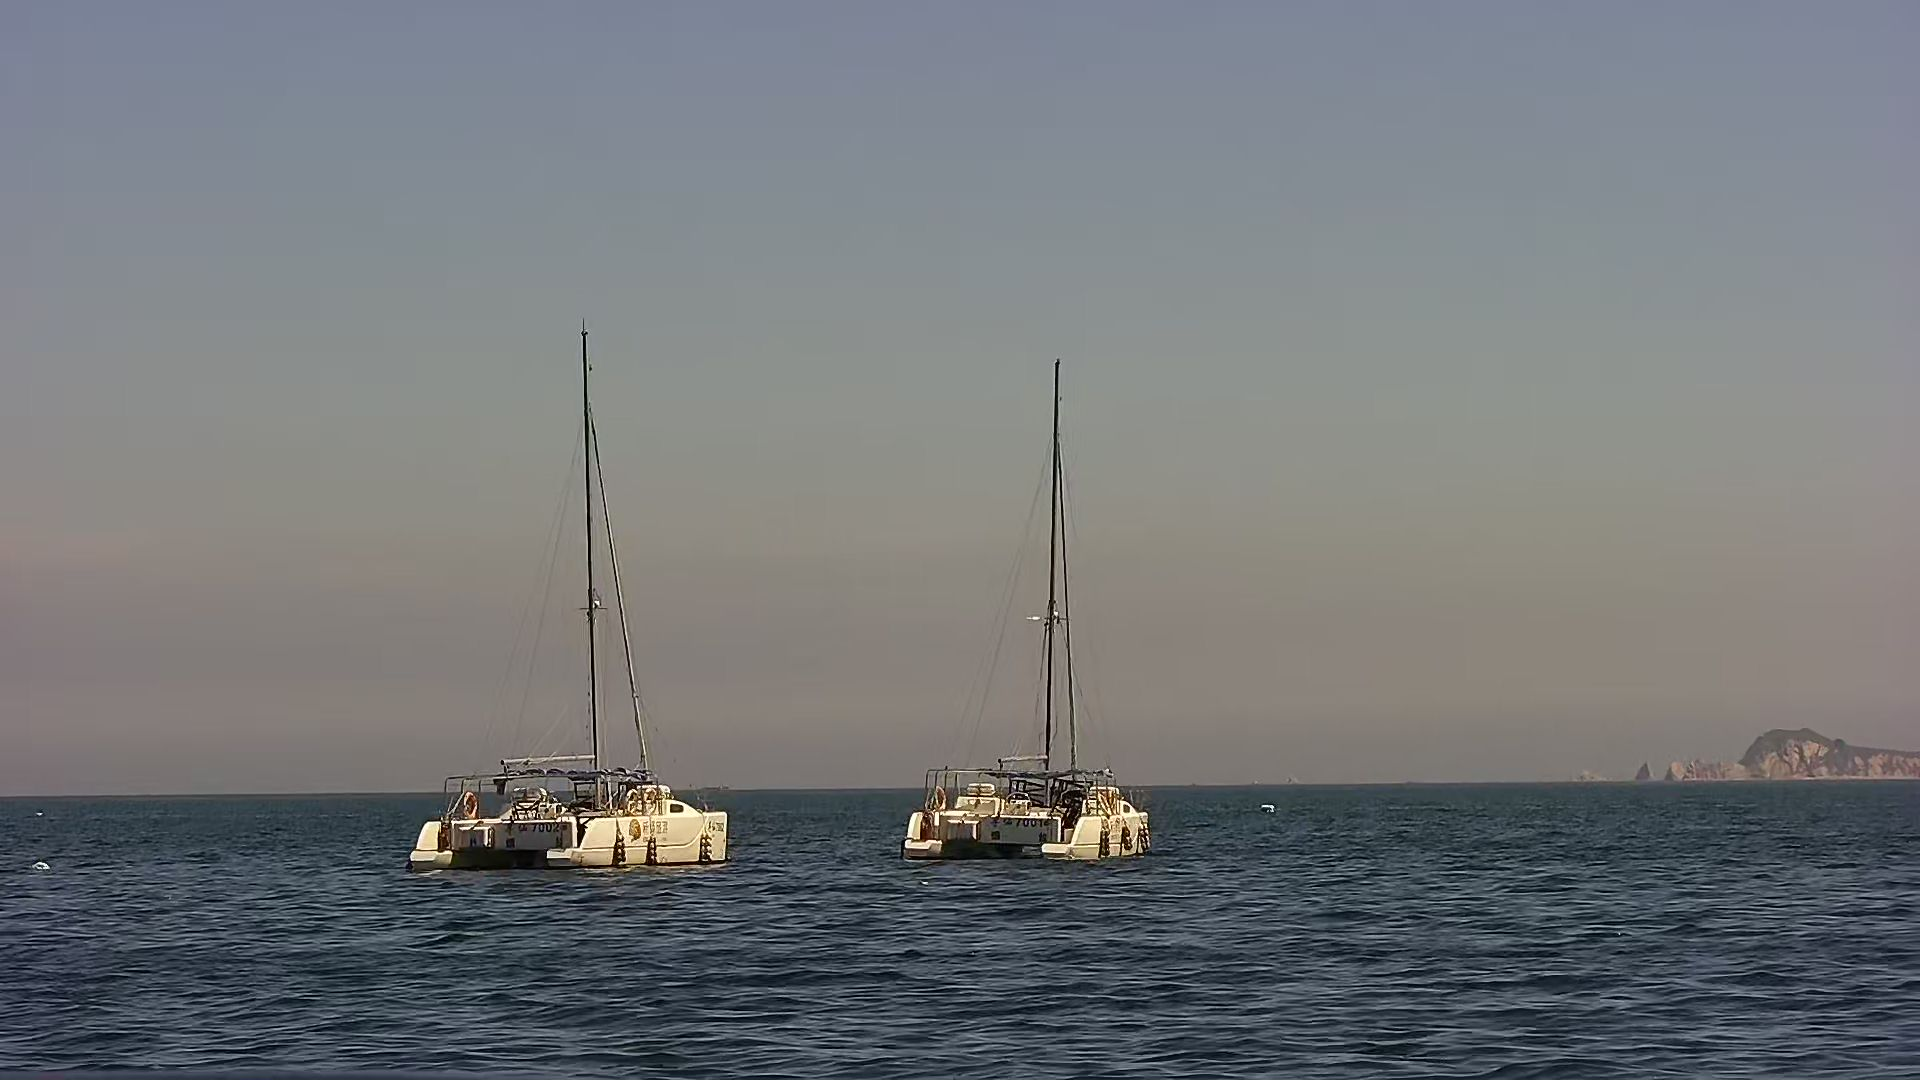boat: (390, 313, 727, 874), (913, 355, 1159, 874)
rock: (1618, 700, 1920, 781)
rubbish: (26, 852, 51, 878), (1261, 791, 1279, 815)
